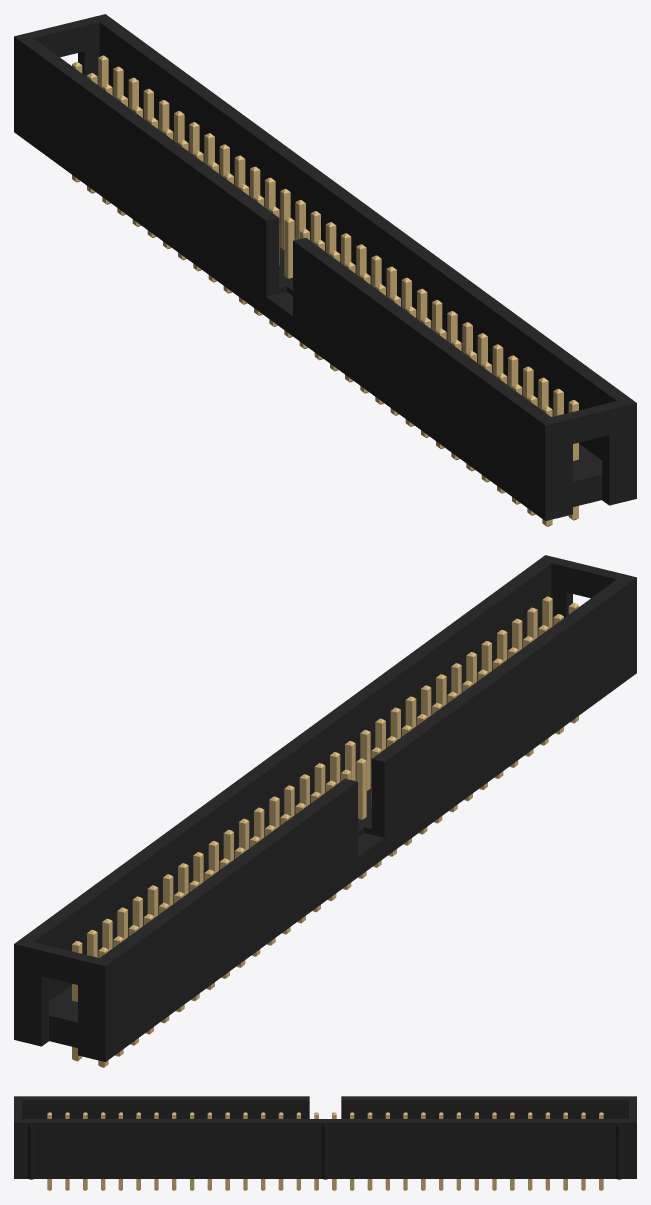
File: kc-idc-header_2x32_p2.54mm_vertical.glb
3 renders of one model, top to bottom at view 1: azimuth 30°, elevation 25°; view 2: azimuth 150°, elevation 25°; view 3: azimuth 270°, elevation 25°, orthographic. The views are drawn at different scales.
Parts seen in each view (by area): view 1: 0_0_0_0, 0.75_0.5_0.25_0.9; view 2: 0_0_0_0, 0.75_0.5_0.25_0.9; view 3: 0_0_0_0, 0.75_0.5_0.25_0.9.
Boxes of the visible parts, <box> form: 0_0_0_0: <box>14,14,636,520</box>; 0.75_0.5_0.25_0.9: <box>72,55,578,526</box>; 0_0_0_0: <box>14,555,636,1061</box>; 0.75_0.5_0.25_0.9: <box>72,596,578,1067</box>; 0_0_0_0: <box>14,1096,636,1179</box>; 0.75_0.5_0.25_0.9: <box>47,1112,603,1190</box>.
Size of the model in its own units: 0.9098 by 1.21 by 8.89.
